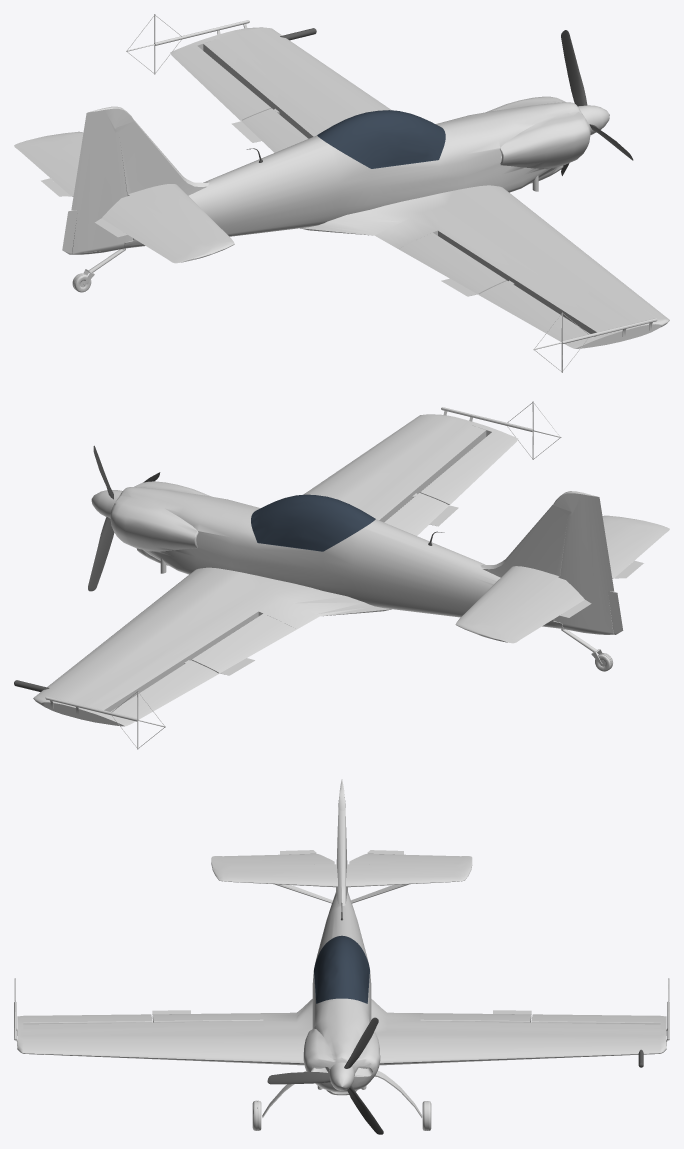
The picture shows the model from 3 angles, top to bottom: view 1: azimuth 30°, elevation 25°; view 2: azimuth 150°, elevation 25°; view 3: azimuth 270°, elevation 25°; orthographic projection. The views are drawn at different scales.
Parts seen in each view (by area): view 1: body, glass, spin; view 2: body, glass, spin; view 3: body, glass, spin.
Part boxes in pixels (x1,y1,x2,y2): body: [14, 14, 669, 372]; glass: [317, 110, 445, 168]; spin: [561, 30, 633, 175]; body: [33, 401, 669, 749]; glass: [251, 494, 375, 551]; spin: [88, 445, 160, 591]; body: [14, 779, 669, 1130]; glass: [314, 935, 369, 1003]; spin: [267, 1017, 383, 1134].
Size of the model in its own units: 1.7 by 0.7066 by 2.2.
